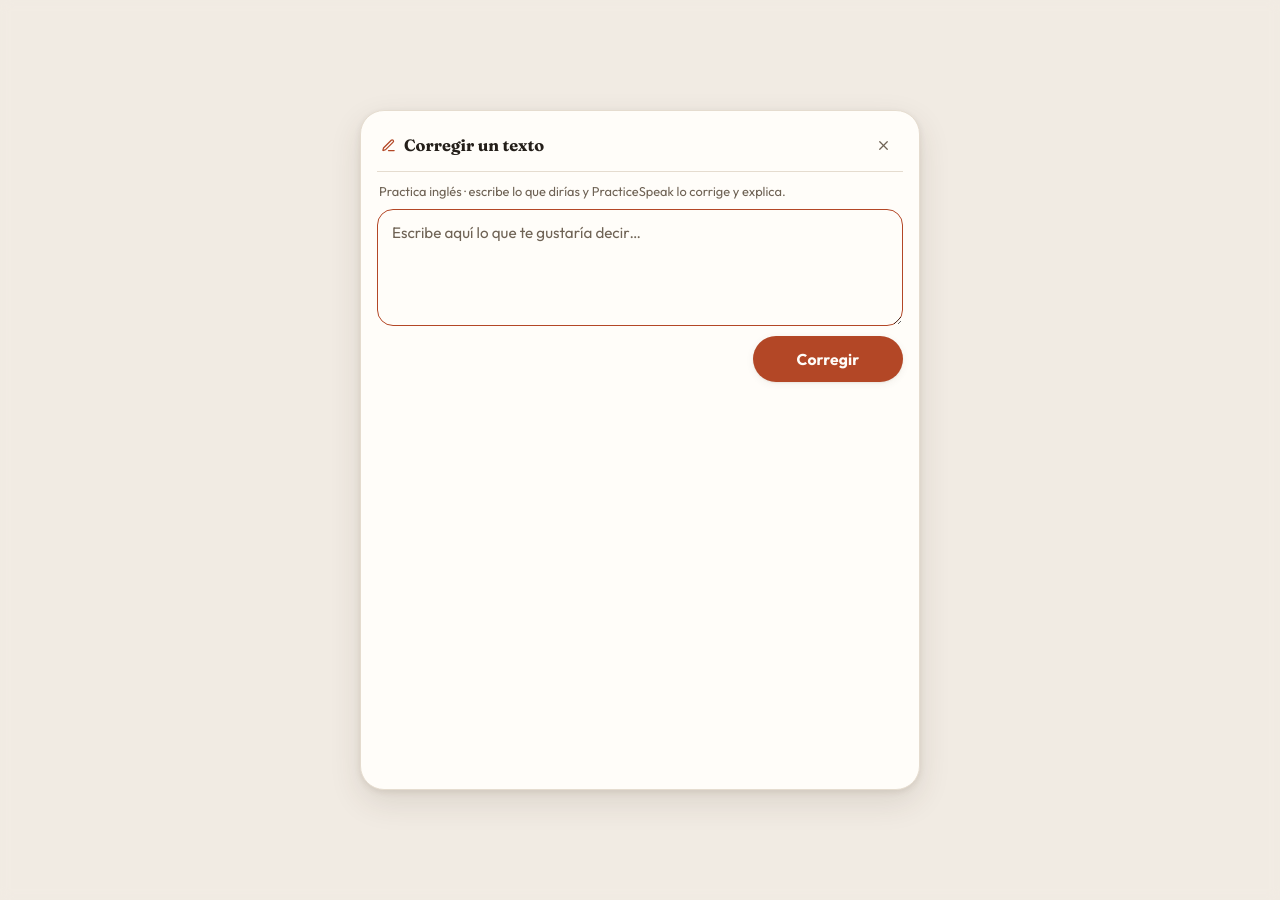
it: GrammarPanel › corrige el texto y muestra el resultado en un diálogo accesible
Expected: the dialog "Corregir un texto" is shown, [360, 110, 920, 790]
Type "I has a cat" into the text box named "Texto a corregir" at (640, 268), box [377, 209, 903, 326]
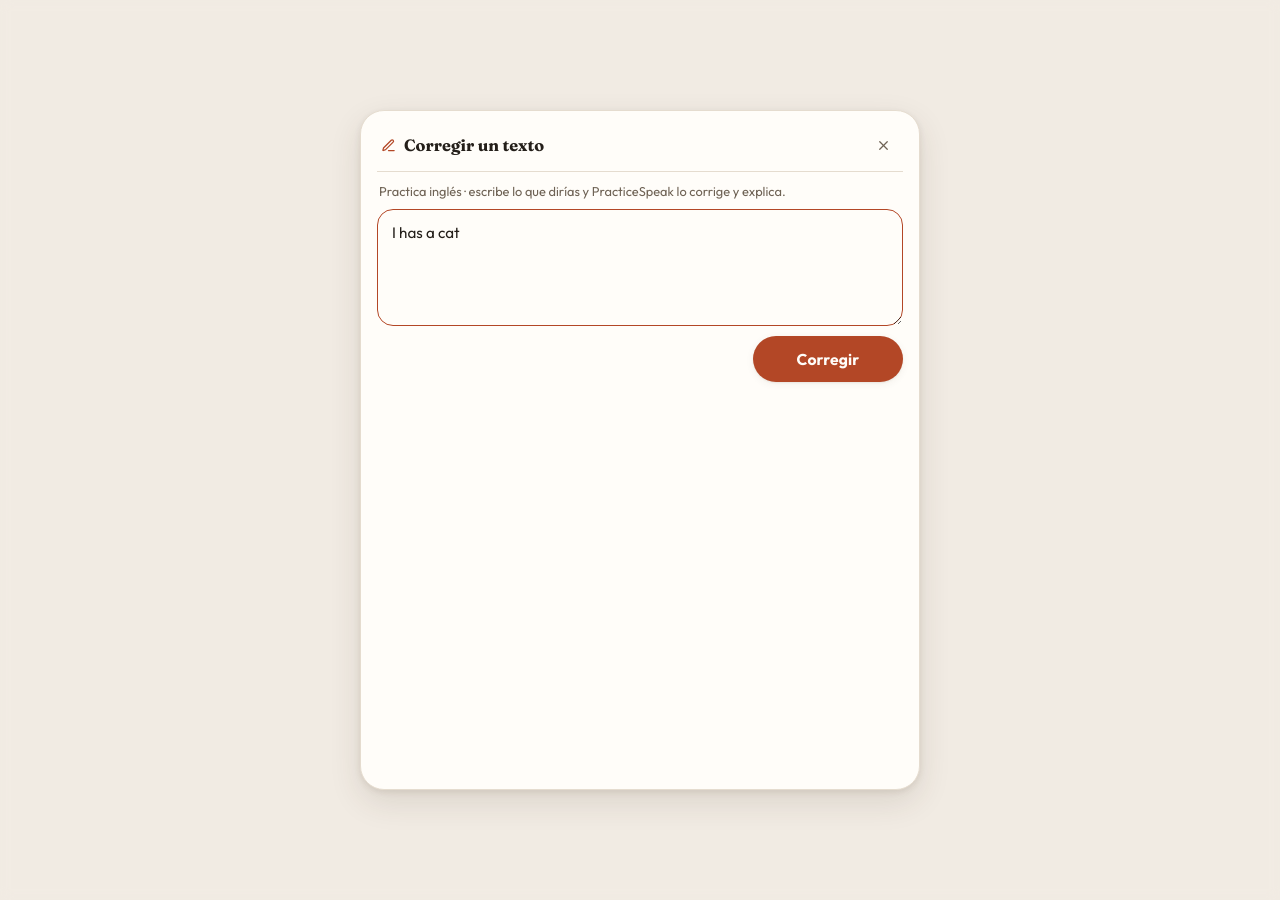
Click the button "Corregir" at (828, 359), box [753, 336, 903, 382]
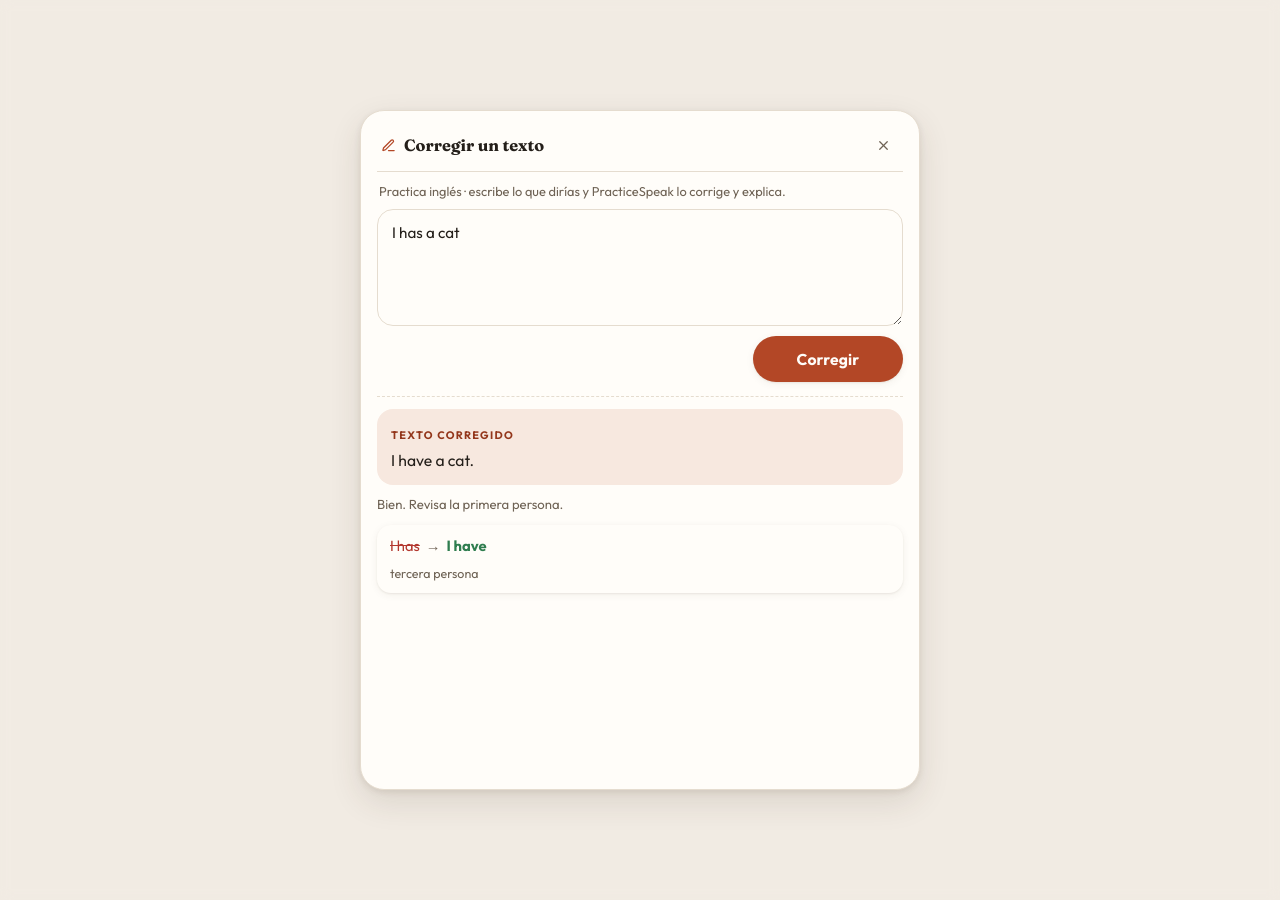
Expected: the text "I have a cat." is shown, [391, 450, 474, 470]
Expected: the text "I has" is shown, [390, 534, 420, 557]
Expected: the text "I have" is shown, [446, 534, 487, 557]
